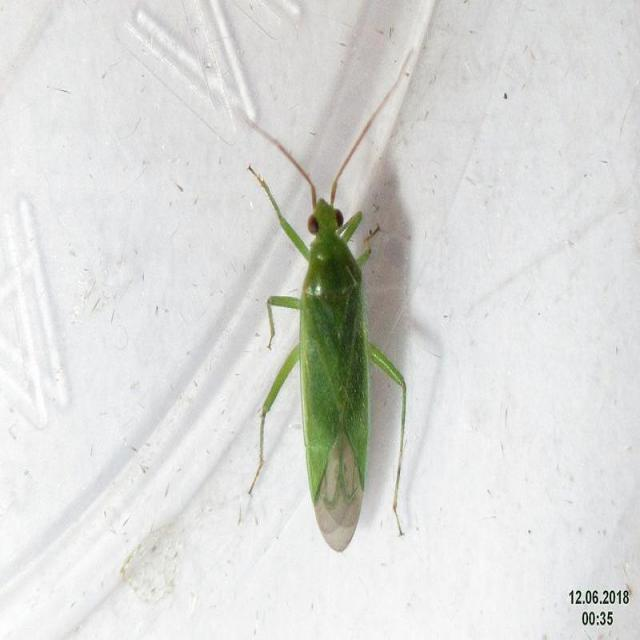Miridae-Adult-: (226, 45, 421, 558)
